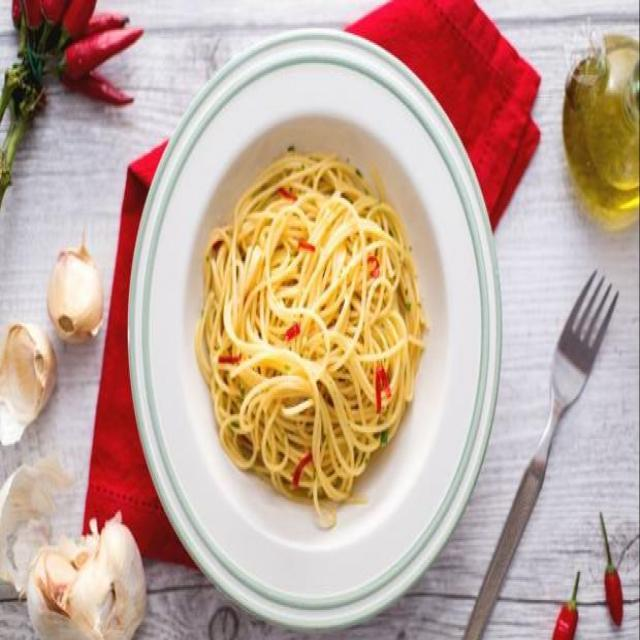Oil pasta: (213, 115, 449, 575)
